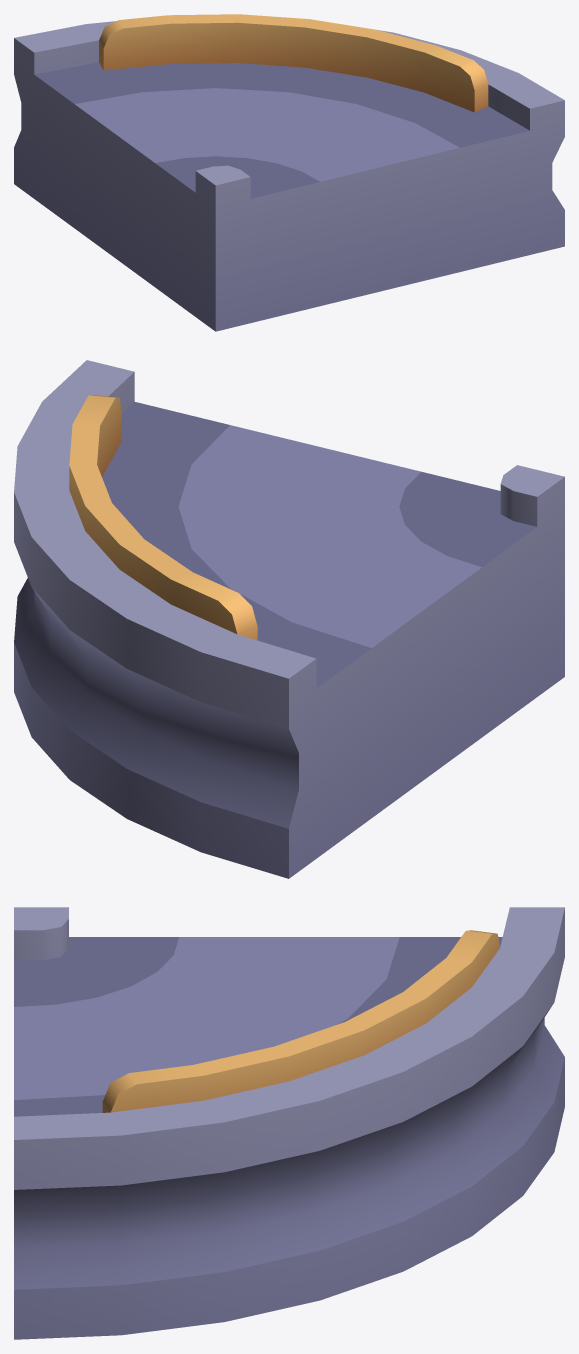
File: kenney-factory-conveyor-stripe-corner.glb
The picture shows the model from 3 angles, top to bottom: view 1: azimuth 30°, elevation 25°; view 2: azimuth 150°, elevation 25°; view 3: azimuth 270°, elevation 25°; orthographic projection. The views are drawn at different scales.
Visible parts, largest first — view 1: conveyor-stripe-corner; view 2: conveyor-stripe-corner; view 3: conveyor-stripe-corner.
Boxes of the visible parts, <box> form: conveyor-stripe-corner: <box>14,14,564,331</box>; conveyor-stripe-corner: <box>14,360,564,878</box>; conveyor-stripe-corner: <box>14,907,564,1339</box>.
Size of the model in its own units: 1.5 by 0.675 by 1.5.
Materials: 1 (1 with a texture image).
